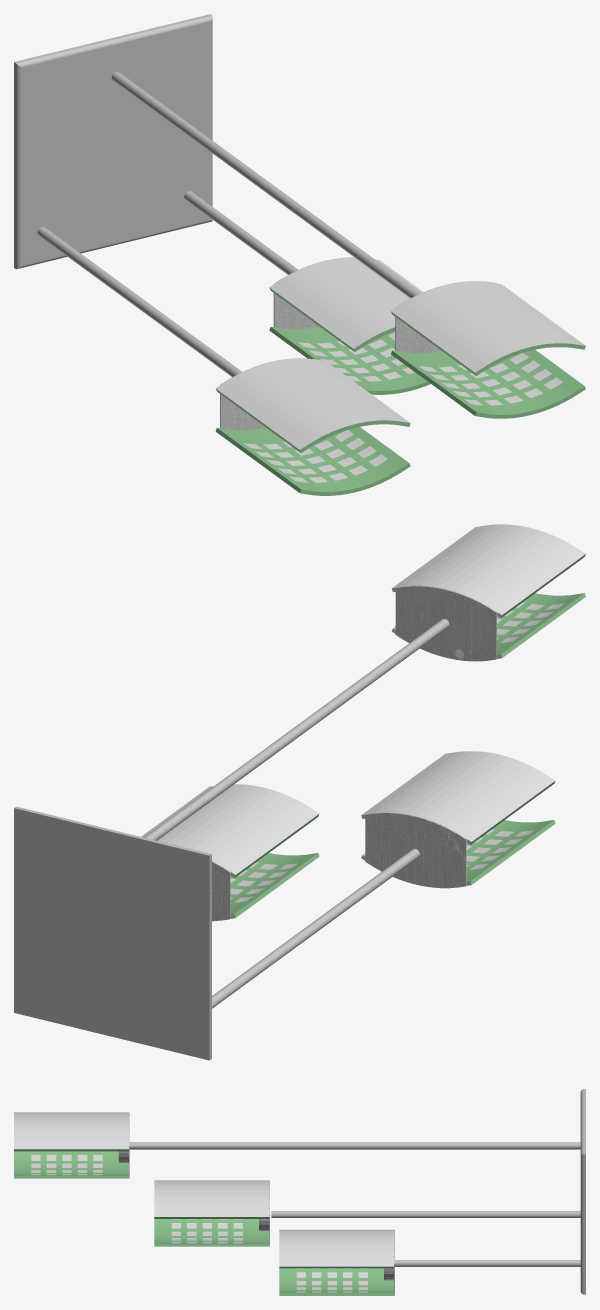
3 renders of one model, top to bottom at view 1: azimuth 30°, elevation 25°; view 2: azimuth 150°, elevation 25°; view 3: azimuth 270°, elevation 25°, orthographic. The views are drawn at different scales.
Visible parts, largest first — view 1: candle set; view 2: candle set; view 3: candle set.
Part boxes in pixels (left/top/right/bottom): candle set: left=14, top=14, right=585, bottom=495; candle set: left=14, top=524, right=585, bottom=1060; candle set: left=14, top=1089, right=585, bottom=1295.
Size of the model in its own units: 8.98 by 6.9 by 25.47.
